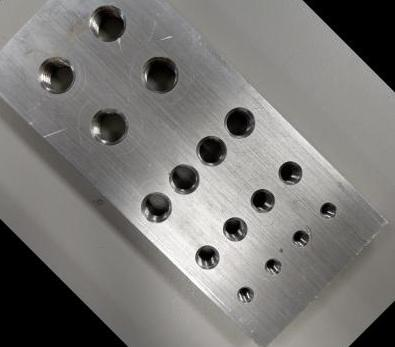hole: (27, 46, 85, 104), (80, 97, 137, 155), (131, 46, 188, 103), (79, 0, 136, 51), (160, 155, 208, 203), (216, 98, 263, 146), (133, 184, 179, 230), (188, 128, 234, 174), (187, 238, 226, 276), (243, 181, 282, 219), (216, 210, 254, 248), (271, 154, 308, 191), (231, 281, 259, 308), (260, 252, 286, 279), (314, 197, 341, 223), (288, 225, 314, 251)
